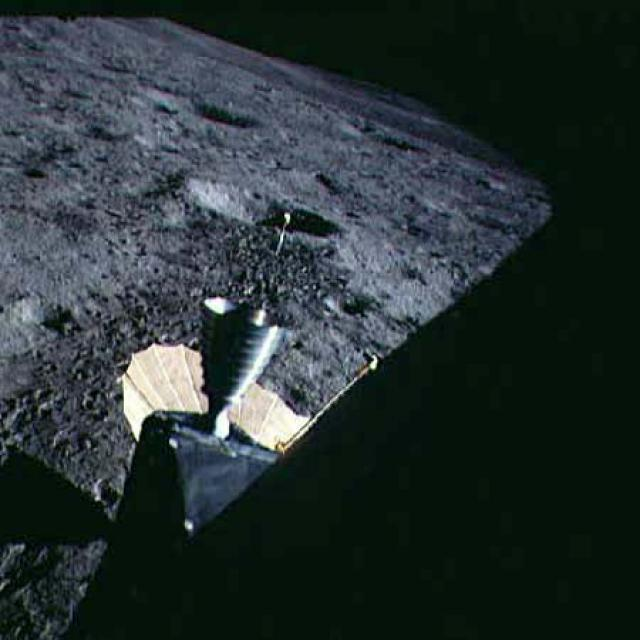crater: (169, 161, 337, 262), (152, 83, 284, 142), (7, 277, 82, 349), (335, 104, 430, 158), (442, 197, 530, 250), (304, 282, 388, 322)
